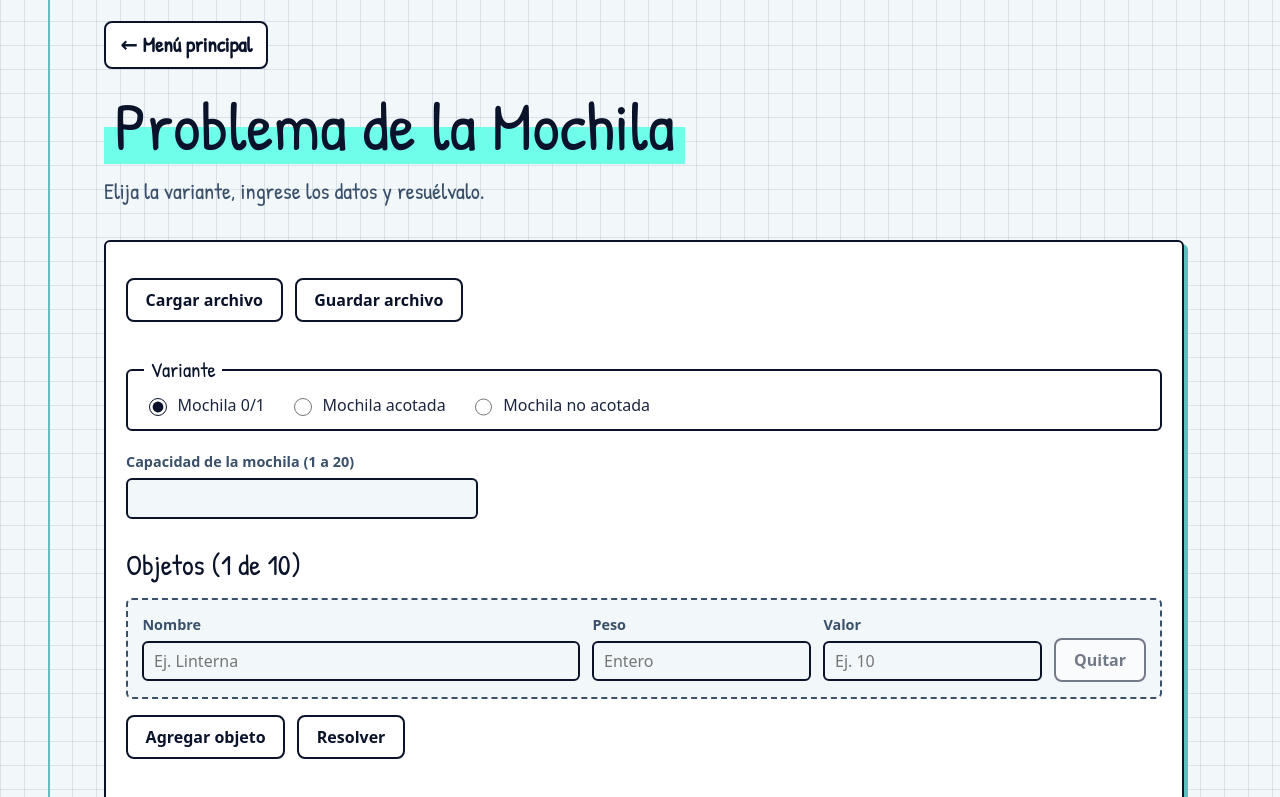
Test case: Página de la mochila › muestra un mensaje claro si el backend no responde
The width and height of the screenshot is (1280, 797).
Type "1" into the field labelled "Capacidad de la mochila (1 a 20)".
click(302, 498); type("1")  # box [126,478,478,519]
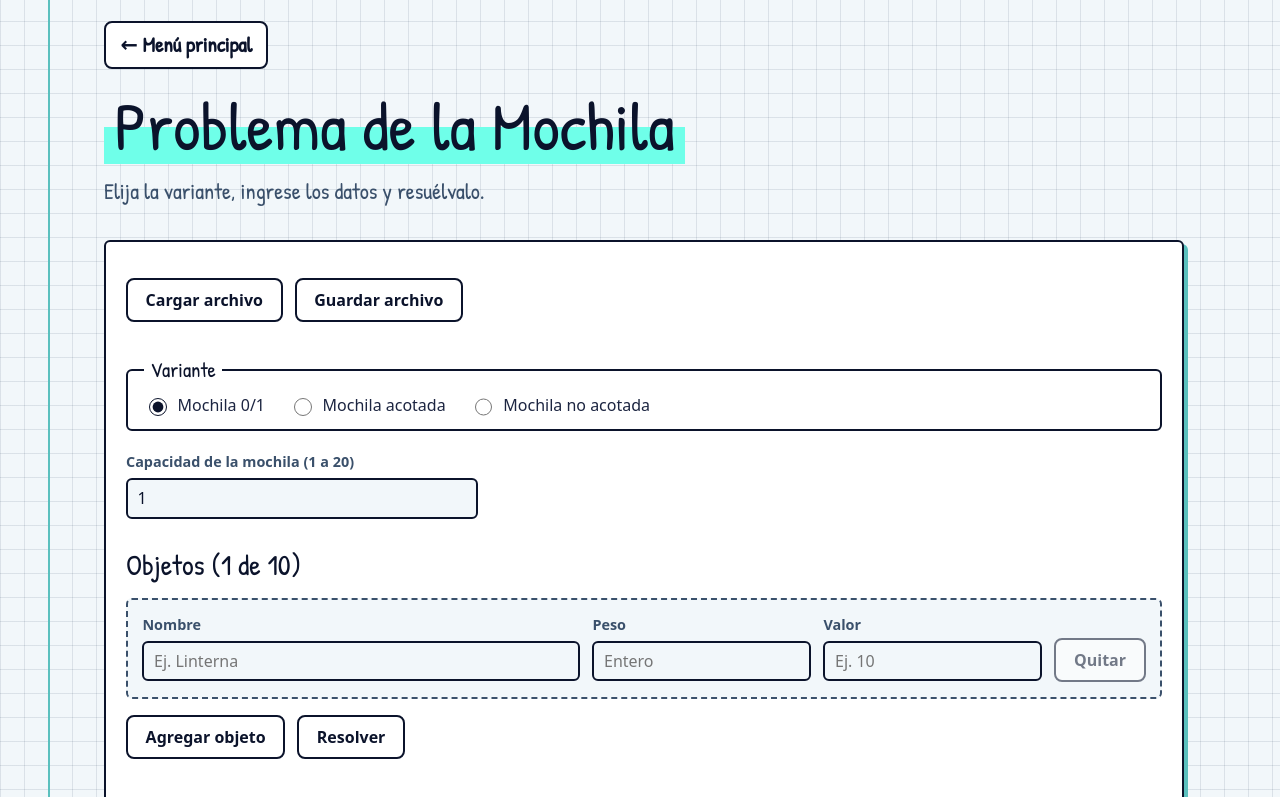
Type "B" into the field labelled "Nombre".
click(361, 661); type("B")  # box [142,640,580,681]
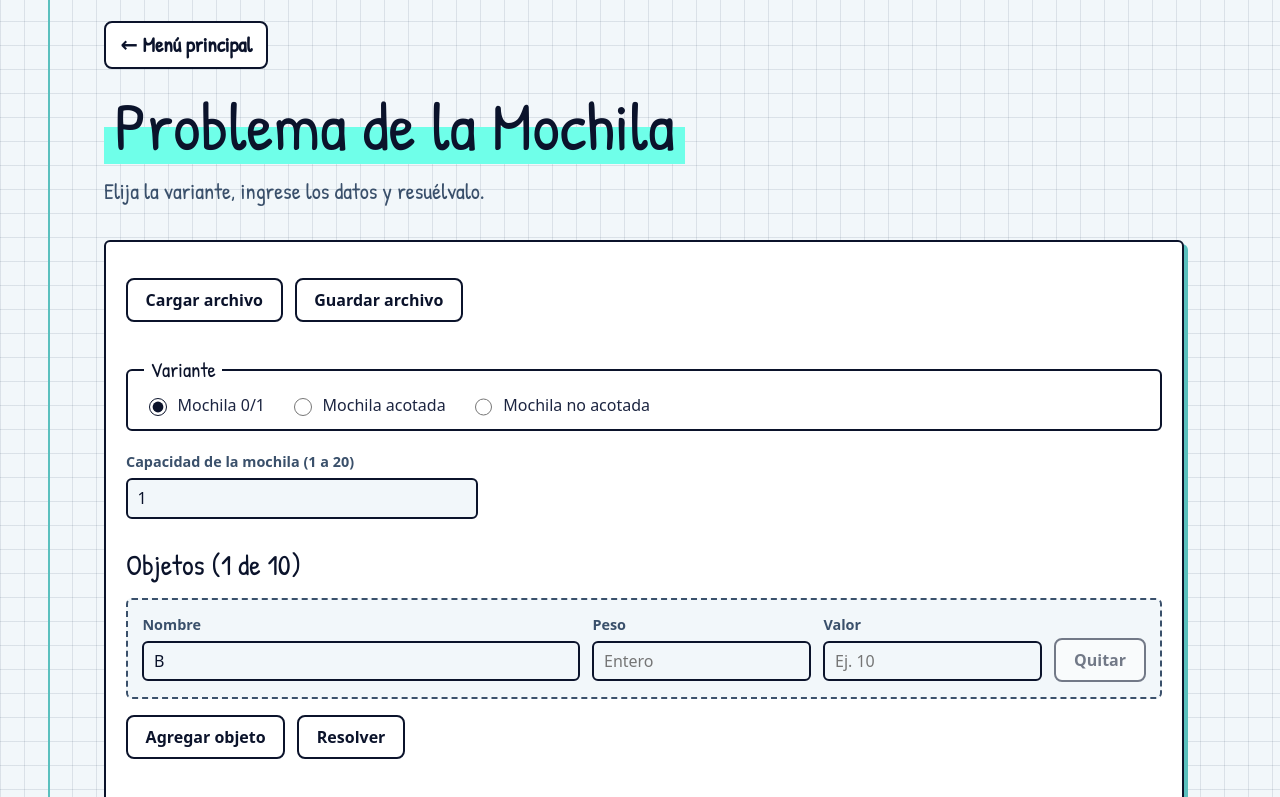
Type "1" into the field labelled "Peso".
click(702, 661); type("1")  # box [592,640,811,681]
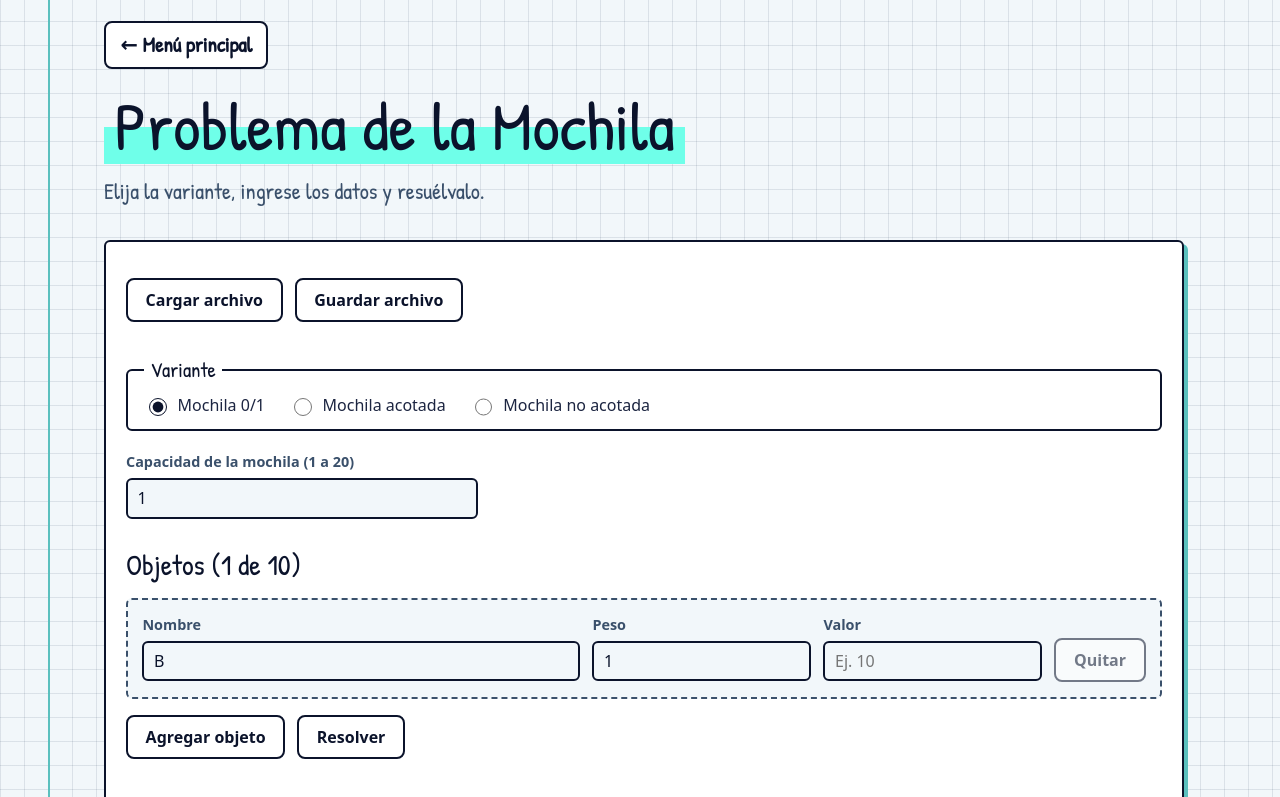
Type "40" into the field labelled "Valor".
click(933, 661); type("40")  # box [823,640,1042,681]
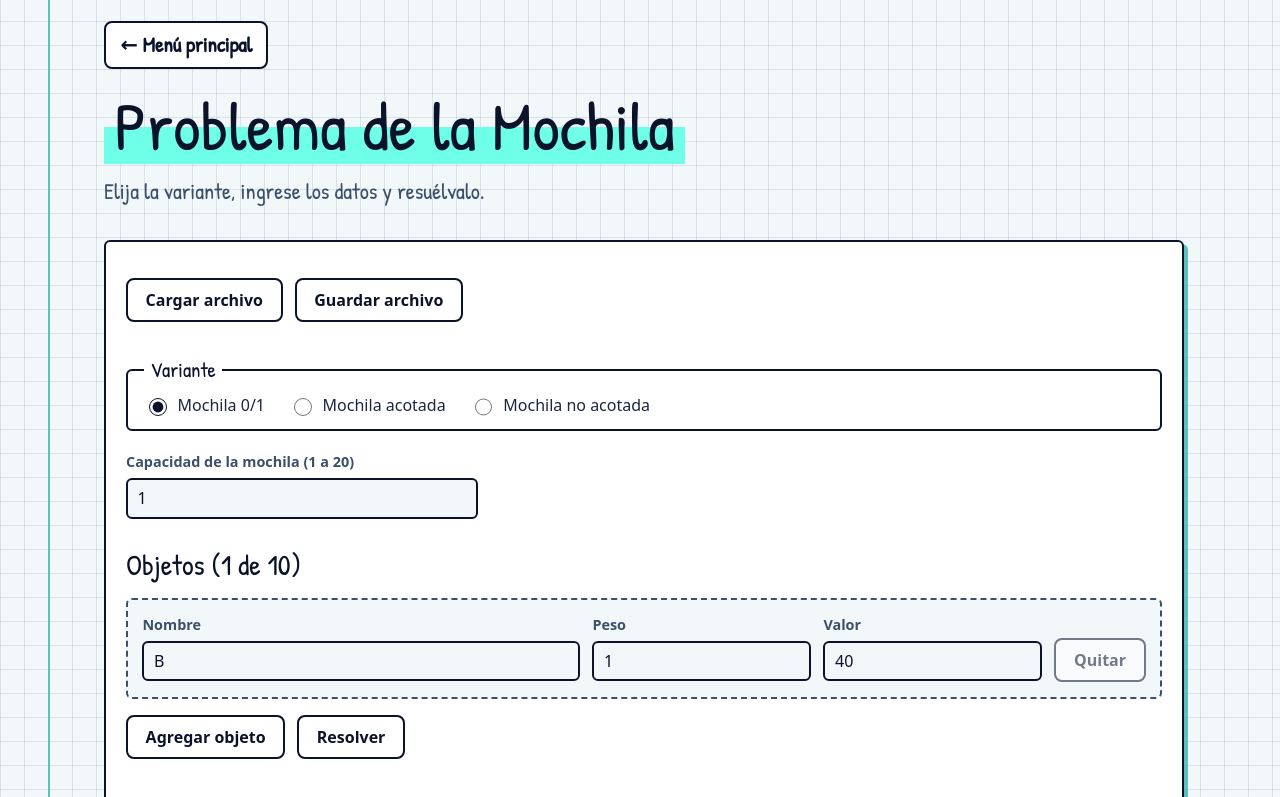
Click the button "Resolver".
click(351, 736)  # box [297,714,405,758]
(page scrolled)
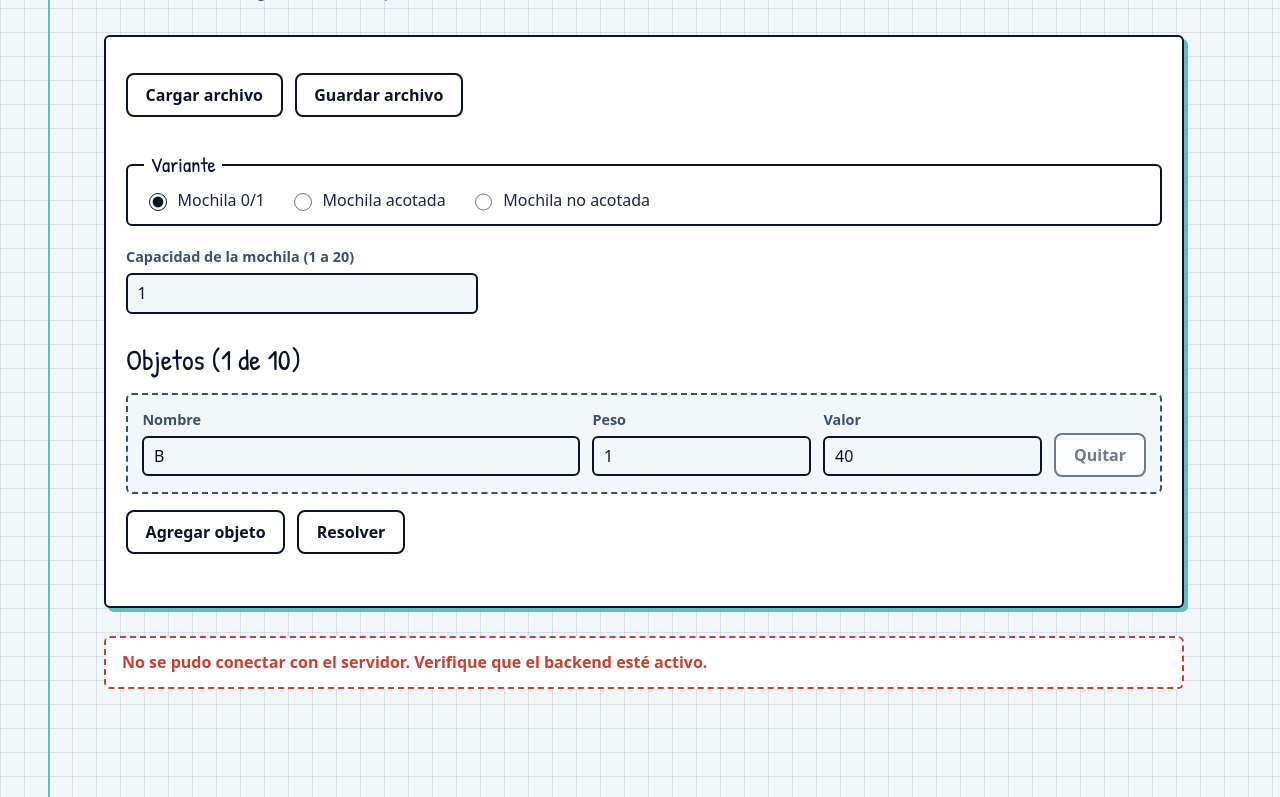
Expected: the message shows "No se pudo conectar", [122,651,707,673]
